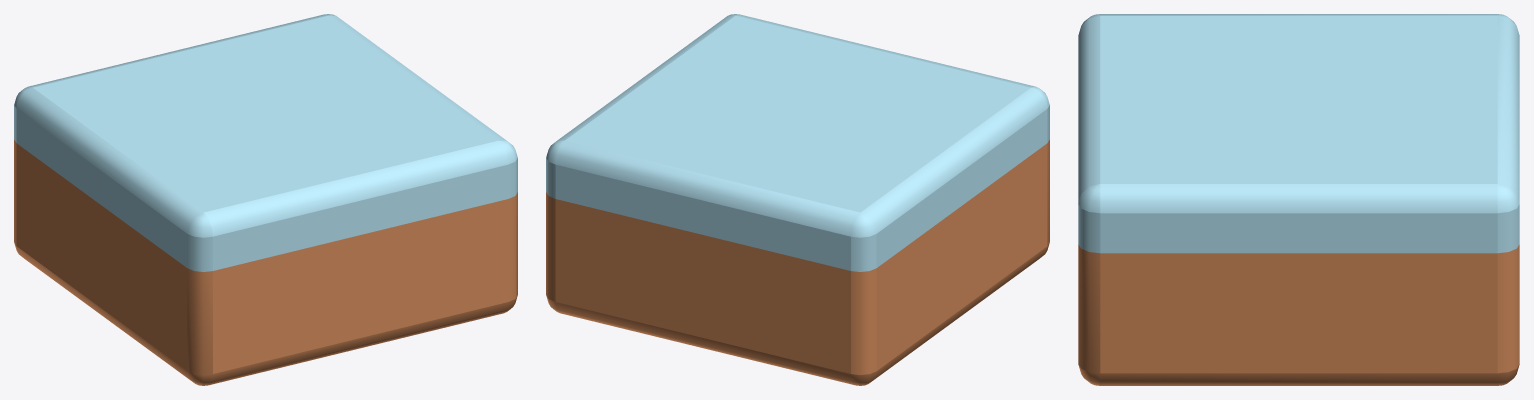
Rendered from blockSnowRoundedLarge.glb.
The picture shows the model from 3 angles, left to right: view 1: azimuth 30°, elevation 25°; view 2: azimuth 150°, elevation 25°; view 3: azimuth 270°, elevation 25°; orthographic projection. The views are drawn at different scales.
Parts seen in each view (by area): view 1: blockSnowRoundedLarge; view 2: blockSnowRoundedLarge; view 3: blockSnowRoundedLarge.
Boxes of the visible parts, x1=… form: blockSnowRoundedLarge: x1=14, y1=14, x2=517, y2=385; blockSnowRoundedLarge: x1=546, y1=14, x2=1049, y2=385; blockSnowRoundedLarge: x1=1078, y1=14, x2=1519, y2=385.
Bounding box in the file's own units: 2 × 1 × 2.
